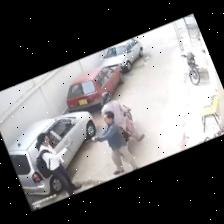person: (92, 111, 138, 174), (38, 133, 81, 195), (101, 92, 144, 141)
